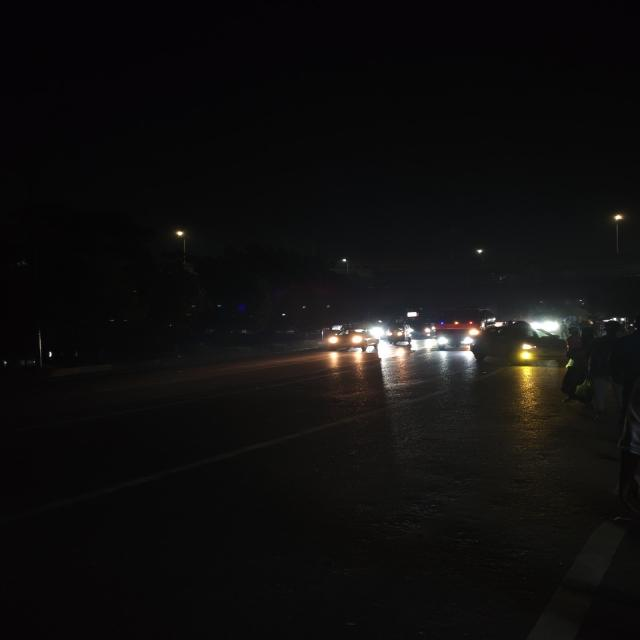car: (471, 329, 569, 368), (322, 322, 379, 354)
cng: (385, 322, 410, 345)
pedestrian: (555, 327, 590, 399), (560, 327, 585, 368)
truck: (436, 301, 489, 346)
